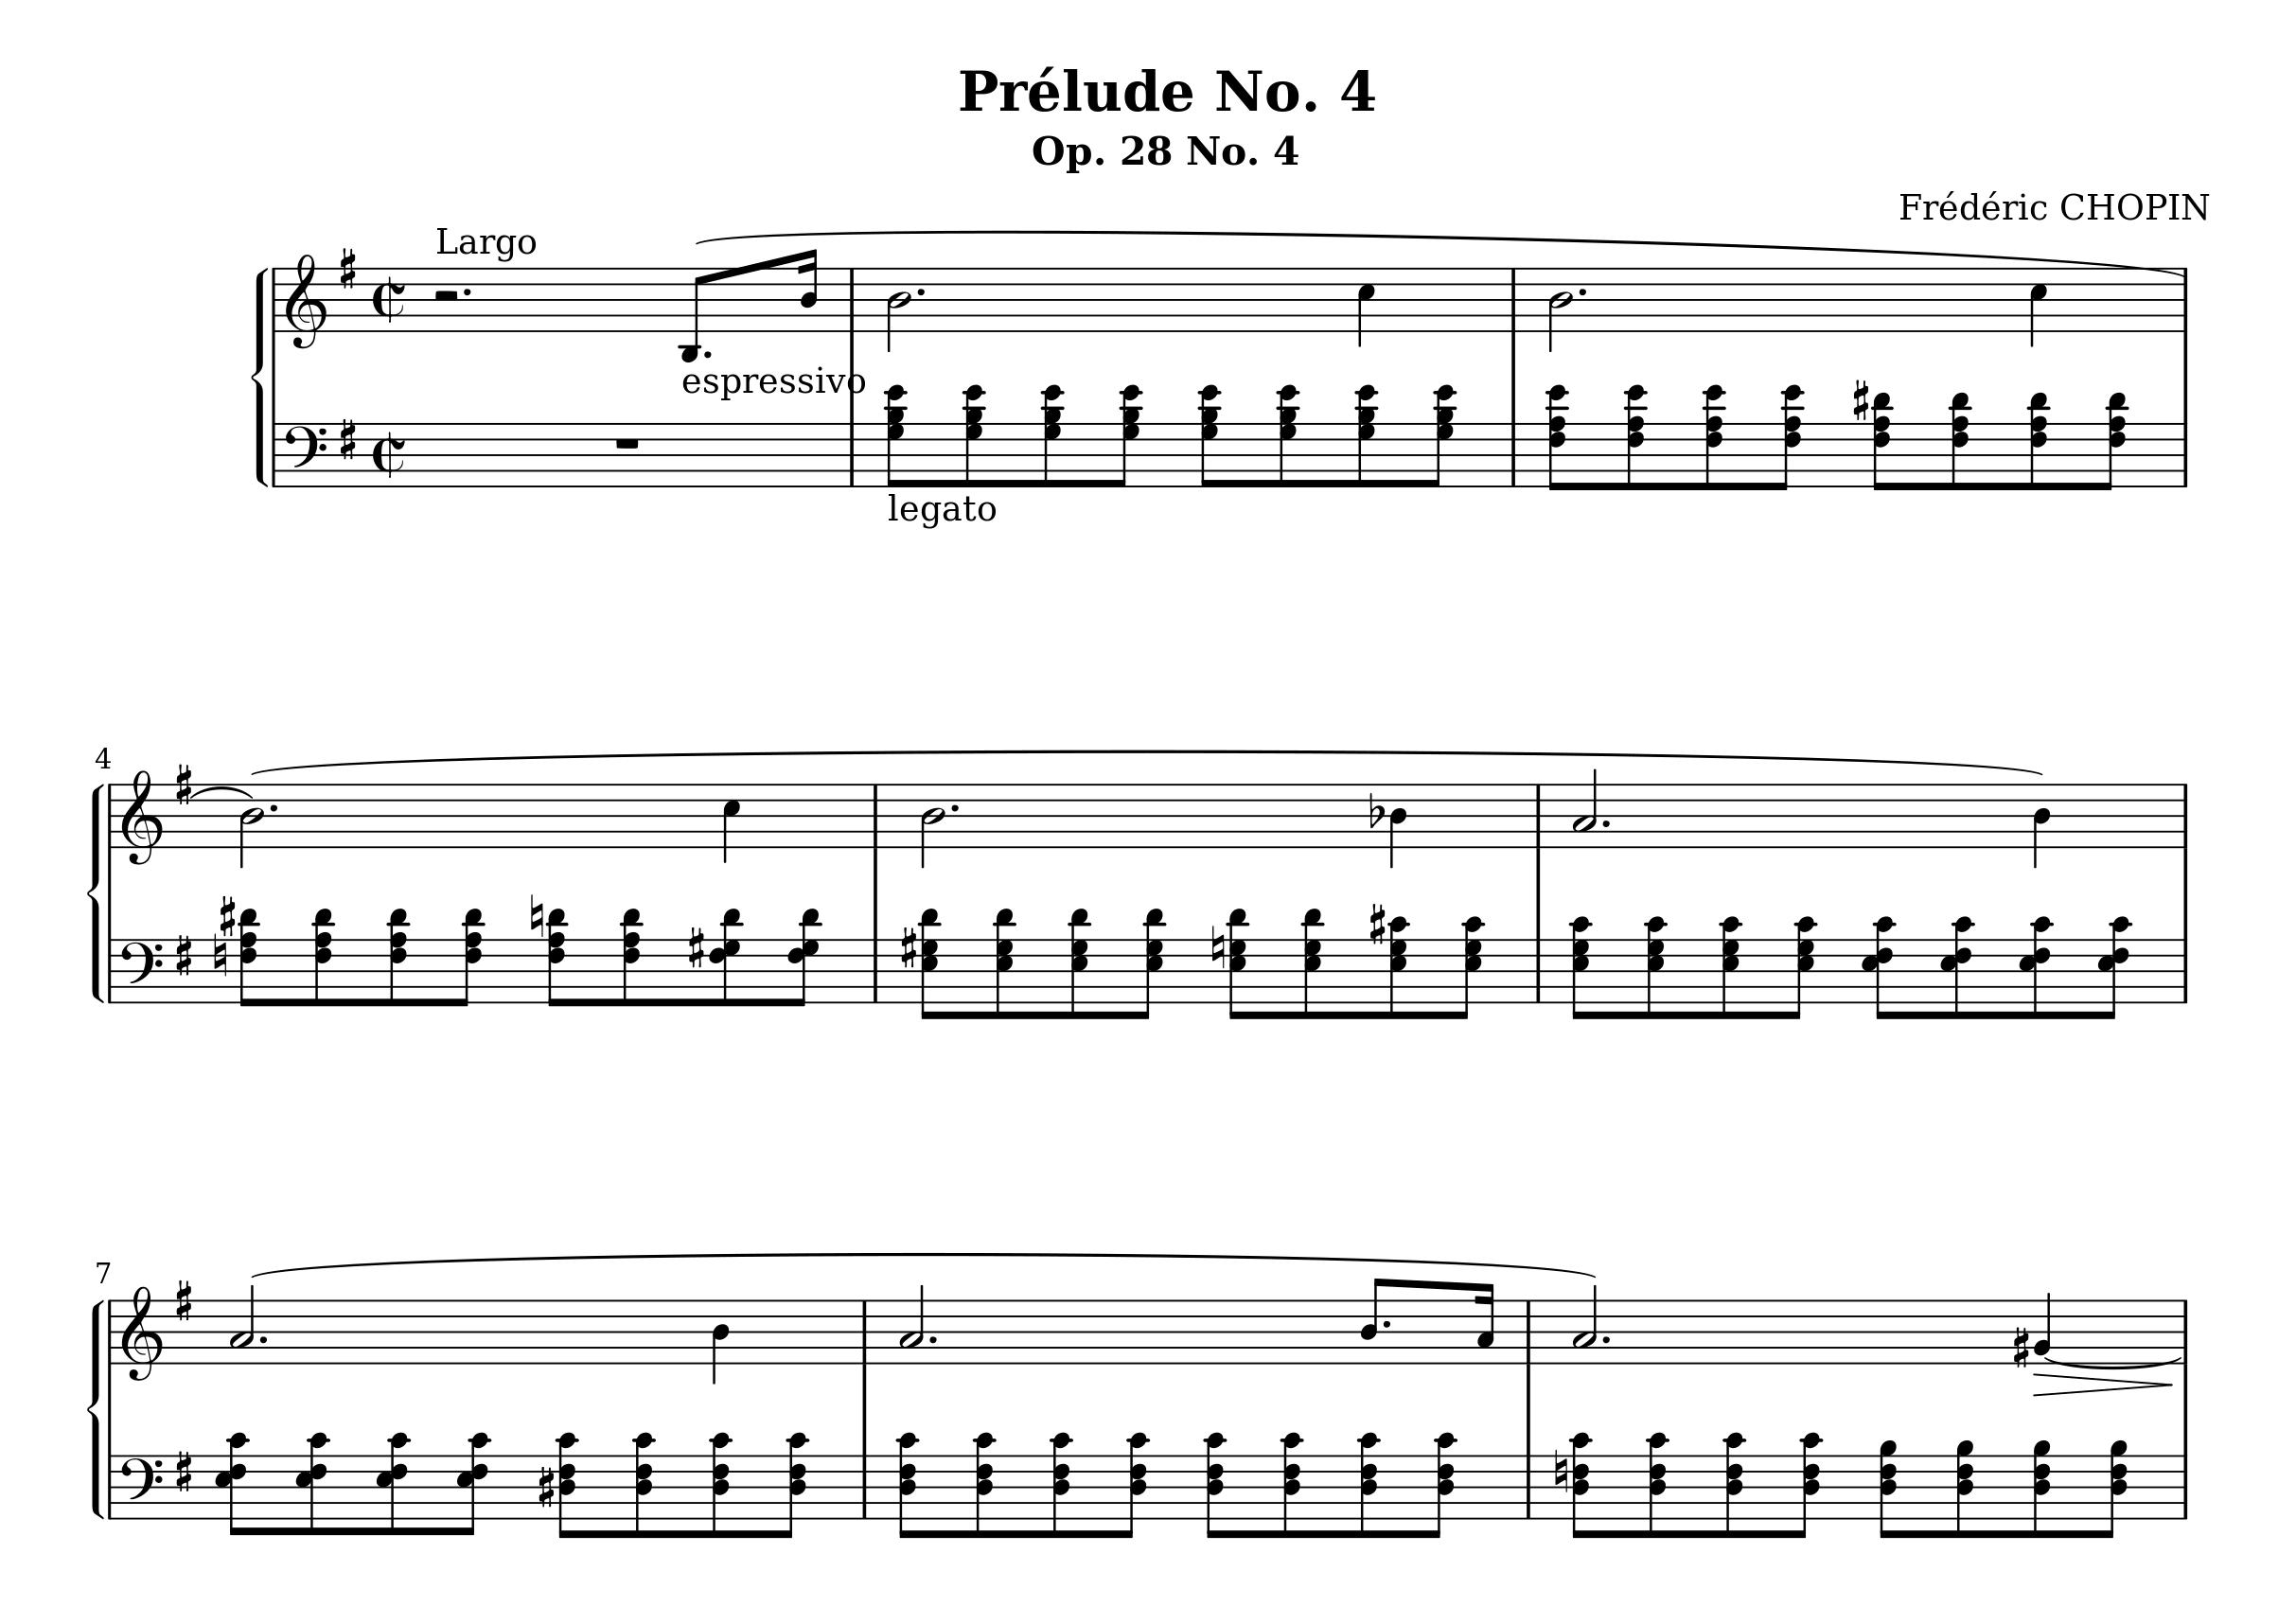16_3: (1474, 1281, 1497, 1364)
16_4: (798, 246, 820, 334)
2_3: (227, 1280, 256, 1364), (1570, 1281, 1599, 1366), (1570, 766, 1599, 849), (898, 1281, 924, 1364)
2_4: (884, 265, 912, 353), (1546, 265, 1574, 353), (237, 780, 265, 868), (919, 780, 947, 868)
4: (93, 743, 114, 770)
4_2: (2032, 1288, 2054, 1367)
4_4: (2031, 780, 2054, 868), (1386, 782, 1409, 868), (710, 1297, 731, 1385)
4_5: (1354, 264, 1377, 348), (2027, 265, 2048, 348), (722, 780, 741, 865)
7: (95, 1255, 112, 1283)
8_-3: (678, 264, 704, 360)
8_4: (1358, 1274, 1386, 1364)
8_th: (2094, 914, 2133, 1019), (1117, 1429, 1154, 1536), (453, 1429, 490, 1536), (783, 905, 822, 1007), (1862, 914, 1899, 1019), (2018, 914, 2055, 1019), (1135, 903, 1168, 1019), (1425, 1429, 1460, 1538), (778, 1429, 813, 1536), (1939, 914, 1975, 1019), (214, 1431, 249, 1536), (295, 1431, 330, 1534), (376, 1431, 411, 1534), (1790, 1429, 1823, 1538), (710, 905, 745, 1007), (1787, 912, 1820, 1018), (1453, 912, 1486, 1018), (1620, 381, 1651, 490), (1774, 381, 1806, 490), (706, 1429, 738, 1538), (1643, 1429, 1674, 1536), (629, 1429, 661, 1536), (1277, 1429, 1309, 1536), (1298, 905, 1328, 1018), (1426, 381, 1458, 487), (917, 903, 945, 1019), (894, 1427, 924, 1536), (1202, 1429, 1231, 1538), (455, 903, 487, 1005), (1066, 903, 1094, 1018), (1567, 912, 1597, 1019), (970, 1429, 1000, 1536), (1047, 1429, 1077, 1536), (1354, 1429, 1384, 1536), (1720, 1429, 1750, 1536), (2099, 388, 2131, 489), (991, 905, 1019, 1018), (1641, 912, 1671, 1018), (1569, 1429, 1597, 1540), (1716, 914, 1746, 1018), (1544, 381, 1572, 490), (1700, 381, 1729, 490), (555, 1429, 583, 1538), (1226, 903, 1253, 1019), (2024, 388, 2054, 490), (959, 381, 987, 487), (1116, 381, 1144, 487), (1196, 381, 1224, 487), (1274, 381, 1302, 487), (1353, 381, 1381, 487), (309, 903, 337, 1007), (545, 903, 573, 1007), (385, 903, 413, 1005), (617, 903, 645, 1005), (1946, 388, 1975, 489), (1869, 390, 1897, 490), (2101, 1436, 2129, 1536), (1040, 381, 1066, 487), (884, 383, 910, 489), (1386, 912, 1412, 1018), (237, 903, 262, 1007), (1876, 1436, 1901, 1536), (1952, 1436, 1976, 1536), (2031, 1436, 2054, 1538)
Brace: (86, 1295, 105, 1520), (86, 779, 104, 1004), (249, 264, 267, 487)
Diminuendo_hairpin: (2032, 1369, 2175, 1397)
Fclef: (278, 424, 330, 490), (119, 1452, 165, 1520), (119, 937, 165, 1004)
Flat: (1365, 789, 1384, 830)
Gclef: (119, 1283, 169, 1381), (121, 766, 165, 865), (286, 253, 327, 348)
Natural: (1549, 1446, 1569, 1496), (211, 932, 228, 979), (527, 891, 545, 939), (1210, 923, 1226, 970)
Rests1: (608, 432, 643, 453)
Rests2: (429, 286, 462, 304)
Sharp: (172, 1446, 200, 1496), (534, 1461, 557, 1513), (337, 244, 362, 292), (336, 415, 360, 459), (174, 1276, 195, 1323), (1850, 376, 1871, 422), (898, 924, 919, 970), (1367, 900, 1388, 946), (2011, 1322, 2031, 1369), (174, 932, 193, 977), (176, 761, 195, 805), (687, 926, 706, 970), (218, 893, 235, 937)
Single_barline: (854, 1299, 875, 1362), (866, 784, 885, 847), (866, 939, 885, 1002), (1528, 939, 1548, 1002), (1528, 784, 1548, 845), (267, 422, 285, 487), (856, 1454, 873, 1519), (267, 267, 285, 330), (1505, 422, 1523, 485), (2175, 939, 2192, 1002), (1520, 1299, 1537, 1362), (1520, 1454, 1537, 1517), (2175, 1455, 2192, 1519), (1505, 269, 1523, 330), (2175, 424, 2192, 485), (845, 422, 861, 487), (104, 782, 119, 847), (2177, 1299, 2192, 1364), (845, 267, 861, 330), (2177, 267, 2192, 330), (104, 939, 119, 1002), (104, 1299, 119, 1362), (104, 1455, 119, 1519), (2177, 784, 2192, 845)
Slur: (694, 228, 2187, 272), (249, 747, 2048, 775), (237, 1248, 1595, 1278), (2036, 1355, 2180, 1369), (186, 784, 256, 801)
TimeSig: (365, 262, 411, 332), (365, 415, 411, 485), (374, 265, 408, 334), (374, 422, 408, 489)
dot: (462, 285, 474, 299), (915, 285, 928, 299), (267, 801, 279, 816), (949, 801, 961, 816), (1381, 1316, 1393, 1330), (926, 1332, 938, 1346), (256, 1332, 269, 1345), (1578, 285, 1588, 299), (703, 348, 713, 360), (1600, 817, 1611, 830), (1600, 1332, 1611, 1345)
